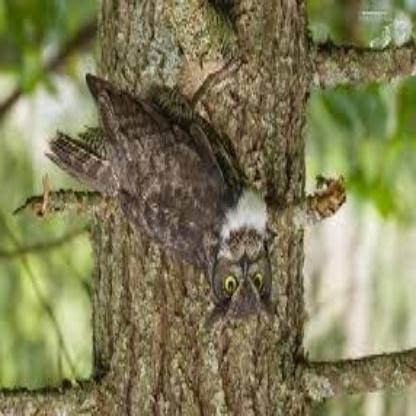Owl: (78, 88, 271, 305)
